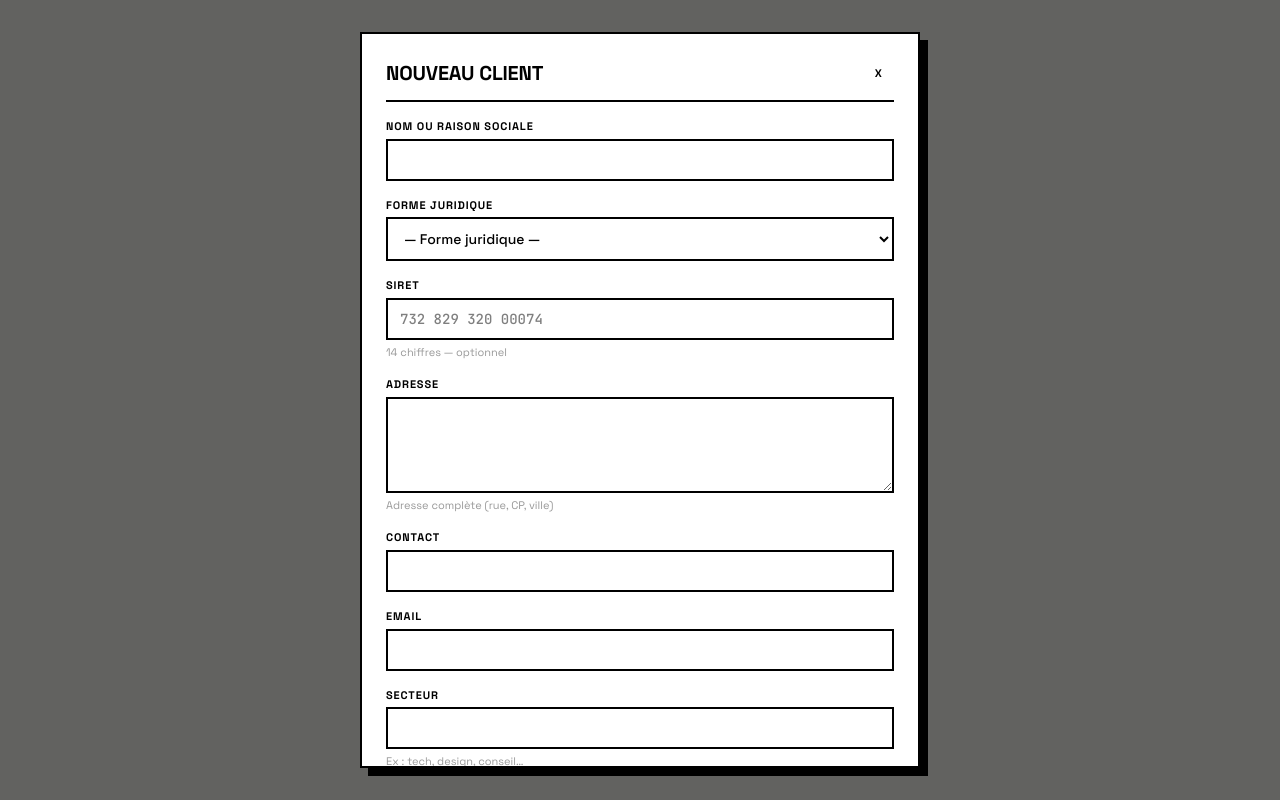
Test: ClientForm › affiche une erreur si le SIRET est invalide
Type "Test Corp" into the field labelled "Nom ou raison sociale" at point(640, 160), box [386, 138, 894, 181]
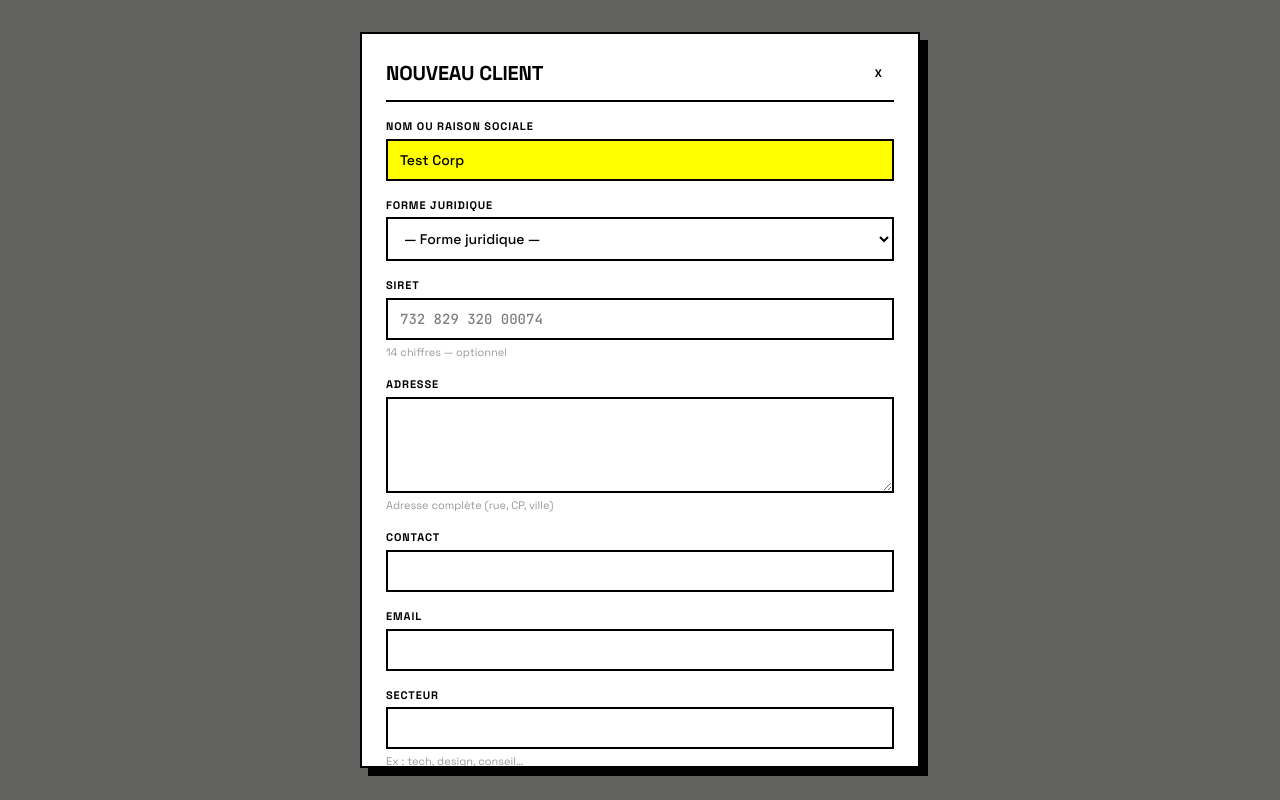
Type "12345678901234" into the field labelled "SIRET 14 chiffres — optionnel" at point(640, 319), box [386, 298, 894, 340]
(page scrolled)
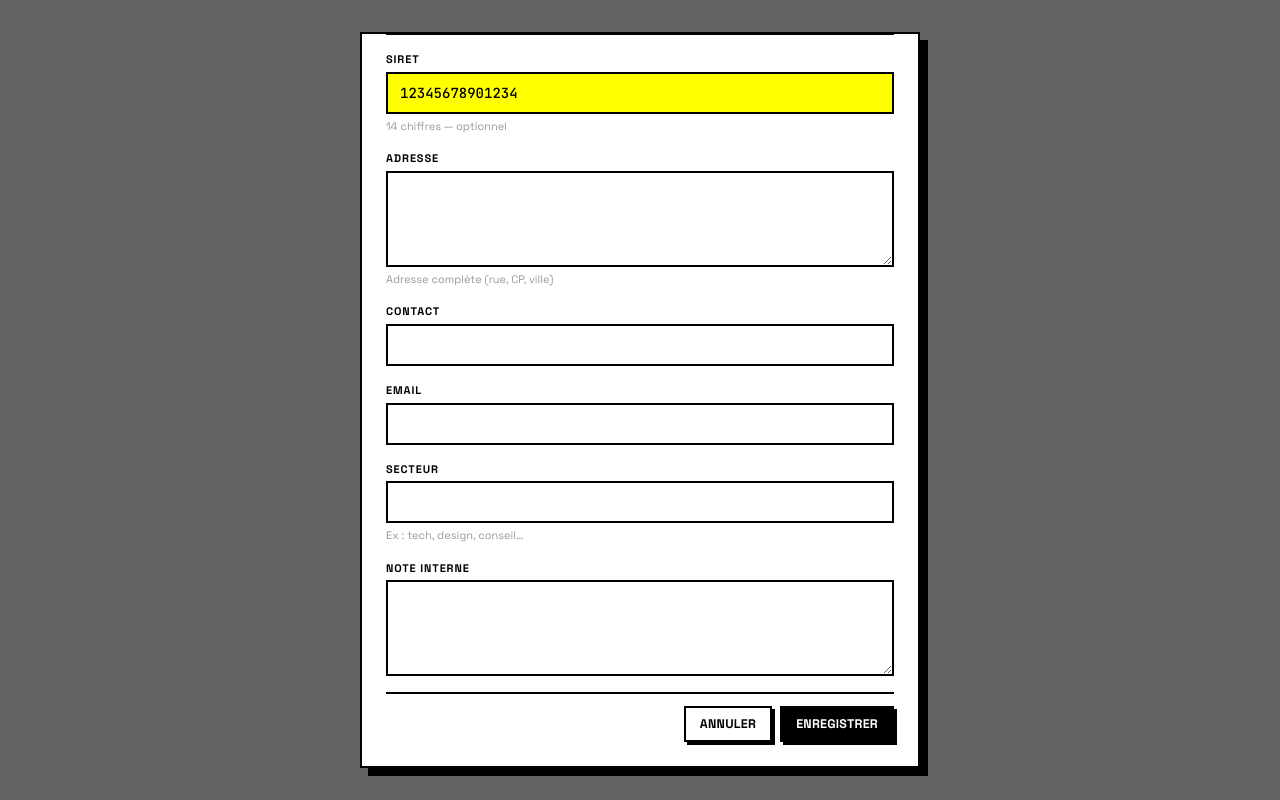
Click the button "Enregistrer" at point(837, 724), box [780, 706, 894, 742]
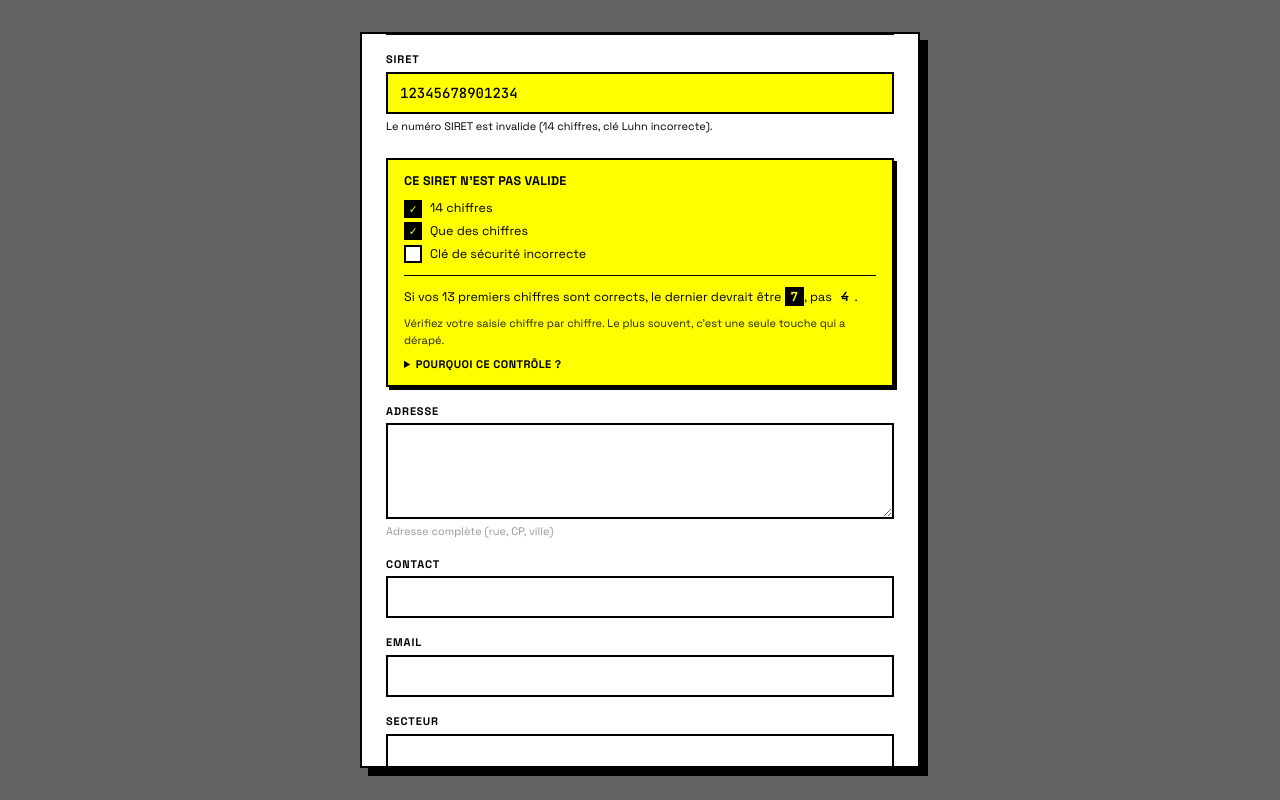
Expected: the text "SIRET est invalide" is shown, [386, 119, 713, 133]
